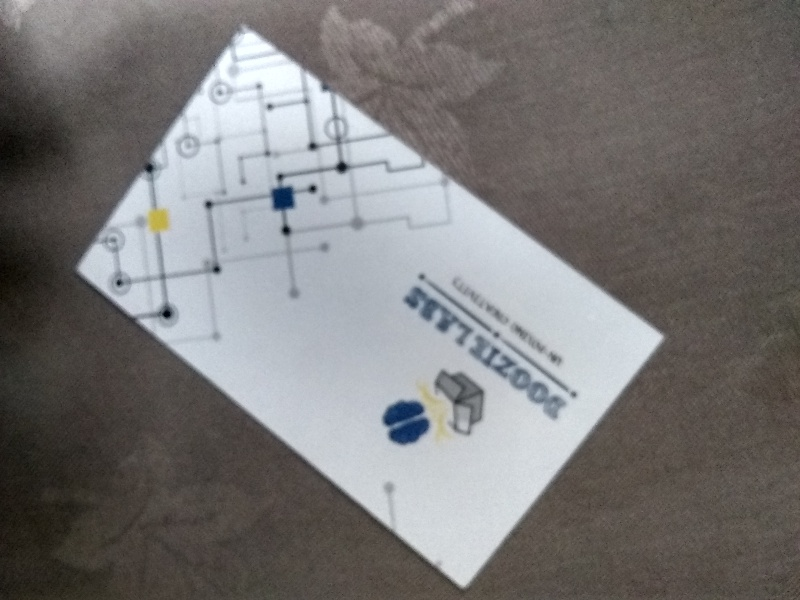back: (73, 21, 668, 593)
